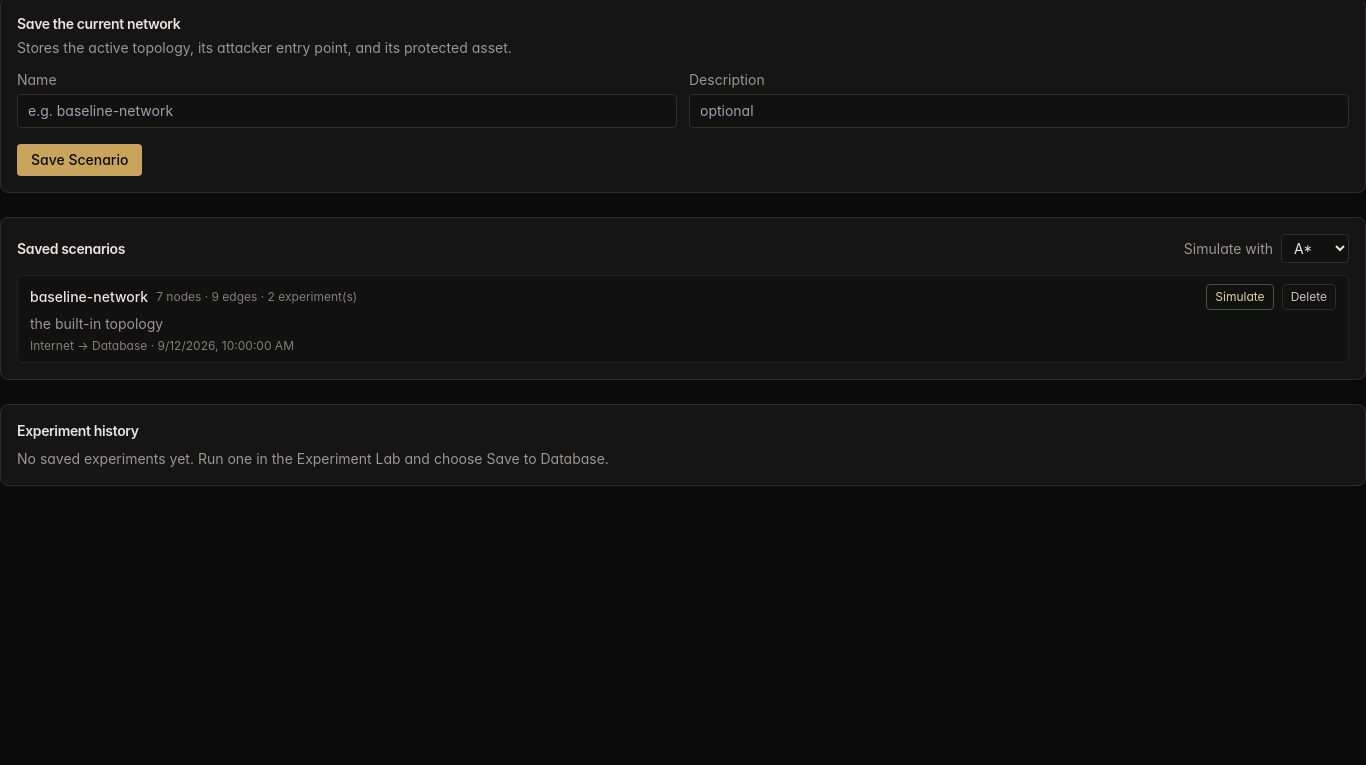
Scenario: ScenariosPage › simulates a saved scenario with the chosen algorithm and shows its routes
This screenshot has width=1366, height=765.
Expected: the text "baseline-network" is shown, [30,287,148,307]
Select "UCS" in the dropdown named "Scenario simulation algorithm" at (1315, 248), box [1281,234,1349,263]
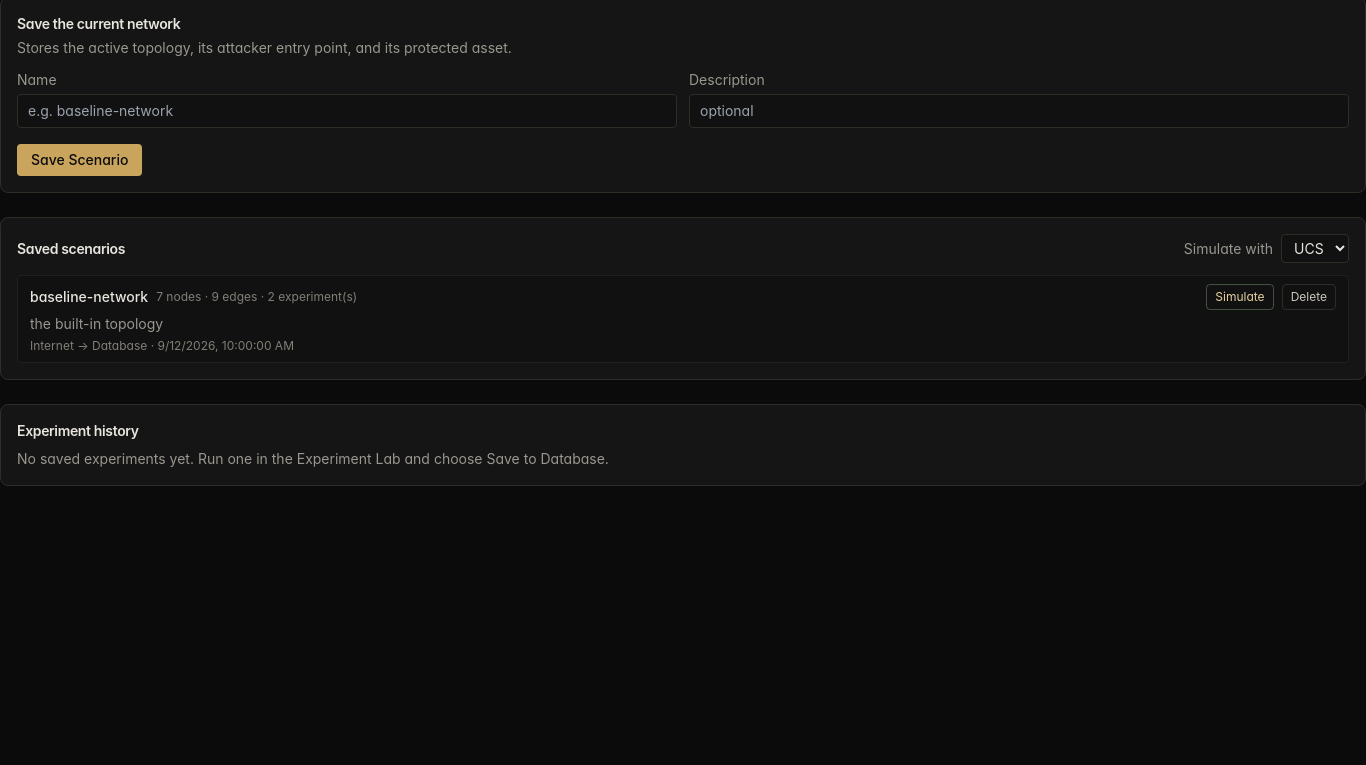
Click the button with aria-label "Simulate baseline-network" at (1240, 297), box [1206,284,1274,310]
(page scrolled)
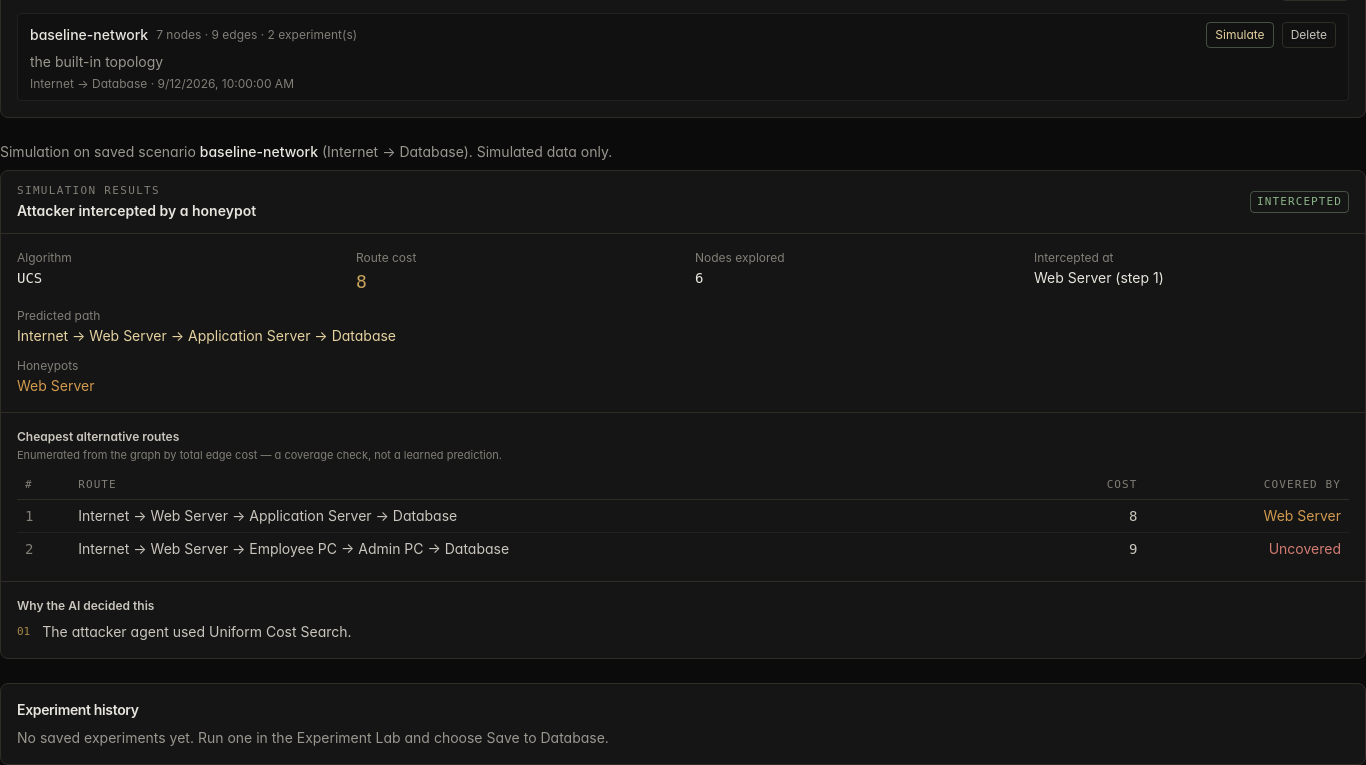
Result: the heading "Attacker intercepted by a honeypot" is shown at [17,201,256,221]
Result: the heading "Cheapest alternative routes" is shown at [17,429,179,444]
Result: the text "Uncovered" is shown at [1146,532,1349,565]
